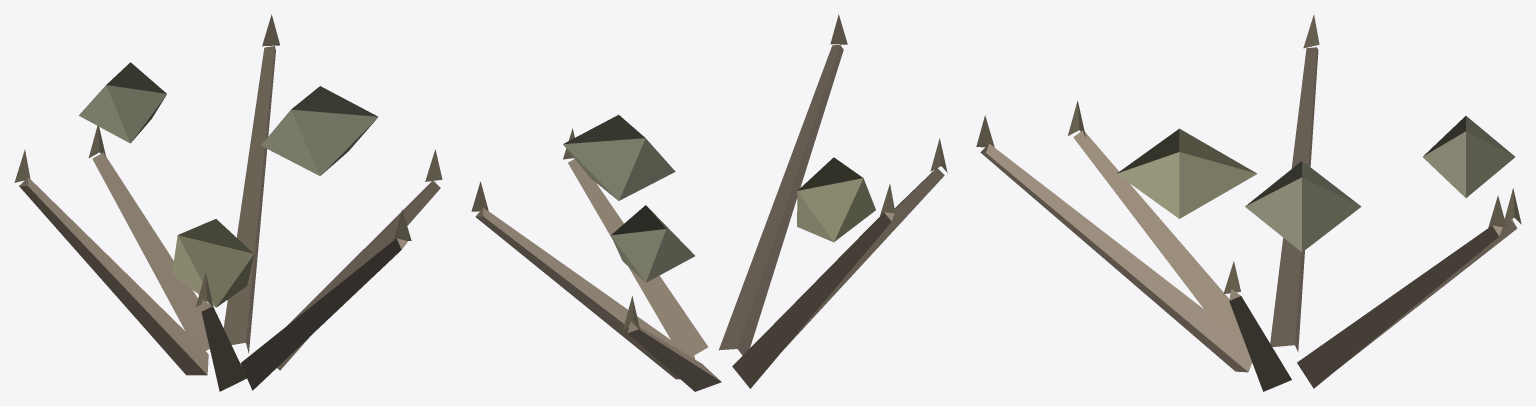
The model's file is shrub.trop.dry_scrub__winter.glb.
3 renders of one model, left to right at view 1: azimuth 30°, elevation 25°; view 2: azimuth 150°, elevation 25°; view 3: azimuth 270°, elevation 25°, orthographic. The views are drawn at different scales.
Parts seen in each view (by area): view 1: shrub.trop.dry_scrub__winter; view 2: shrub.trop.dry_scrub__winter; view 3: shrub.trop.dry_scrub__winter.
Part boxes in pixels (x1=…): shrub.trop.dry_scrub__winter: x1=14, y1=14, x2=442, y2=391; shrub.trop.dry_scrub__winter: x1=471, y1=14, x2=947, y2=391; shrub.trop.dry_scrub__winter: x1=976, y1=15, x2=1521, y2=391.
Size of the model in its own units: 1.81 by 1.19 by 2.17.
